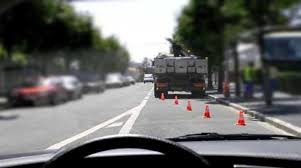obstacle: (236, 110, 247, 130), (201, 104, 211, 119), (172, 94, 179, 107), (186, 98, 192, 112), (160, 92, 165, 102)
truck: (152, 56, 210, 99)
